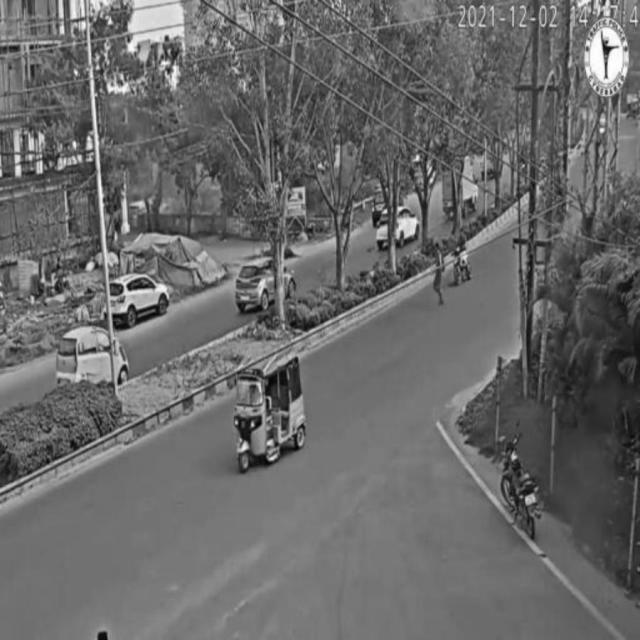person: (433, 240, 448, 310)
vehicle: (235, 353, 305, 477), (54, 322, 128, 388), (499, 442, 537, 535), (112, 267, 173, 324), (233, 259, 297, 307), (373, 206, 415, 248), (454, 228, 471, 285)
